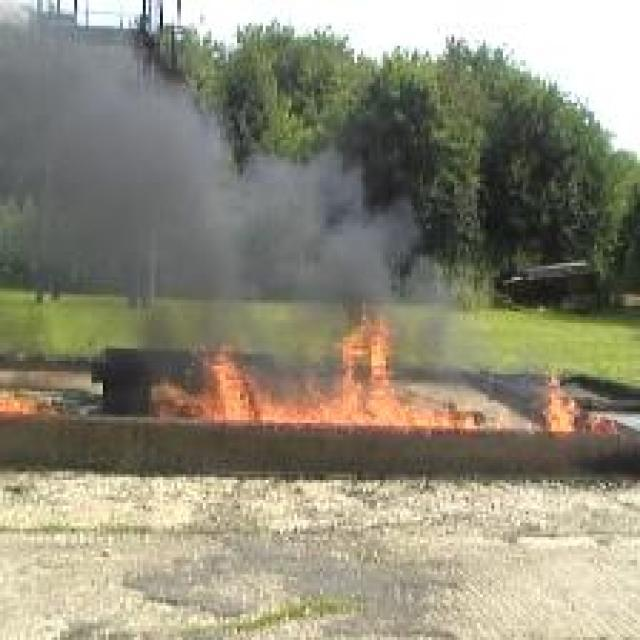Fire: (148, 314, 488, 426), (546, 368, 580, 432), (0, 388, 66, 412)
